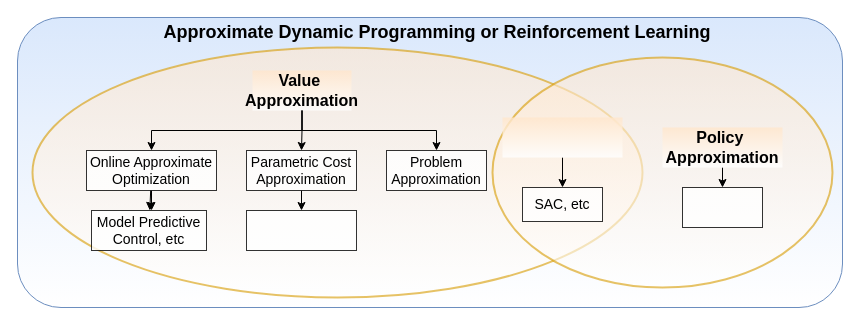
Some shapes in this 860 by 325 pixel diagram are drawn without their labels. Each missing label, with the centre of its shape:
Combining Approximation: pixel 562 137
DDQN, QRDQN, etc: pixel 301 230
PPO, etc: pixel 722 207
